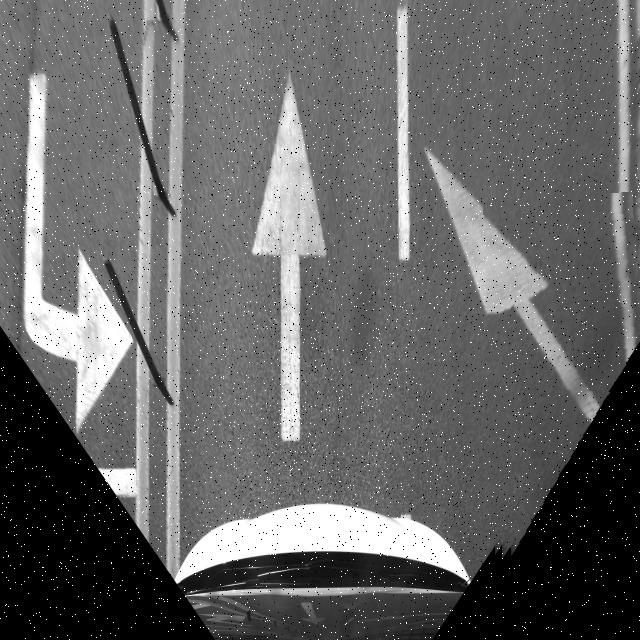left: (486, 193, 640, 576)
